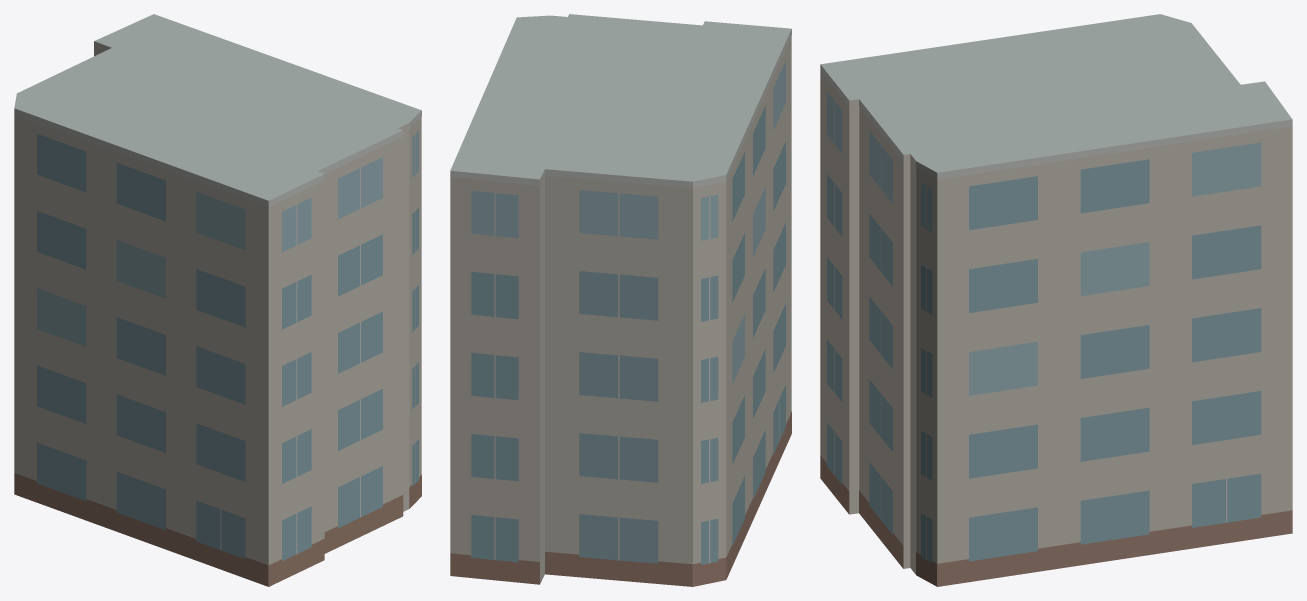
File: survey-upis-32962871.glb
The picture shows the model from 3 angles, left to right: view 1: azimuth 30°, elevation 25°; view 2: azimuth 150°, elevation 25°; view 3: azimuth 270°, elevation 25°; orthographic projection. The views are drawn at different scales.
Parts seen in each view (by area): view 1: survey-upis-32962871.tmp; view 2: survey-upis-32962871.tmp; view 3: survey-upis-32962871.tmp.
Part boxes in pixels (<box>): survey-upis-32962871.tmp: <box>14,14,421,586</box>; survey-upis-32962871.tmp: <box>450,14,791,586</box>; survey-upis-32962871.tmp: <box>820,14,1292,586</box>.
Bounding box in the file's own units: 12.19 × 14.8 × 15.3.
